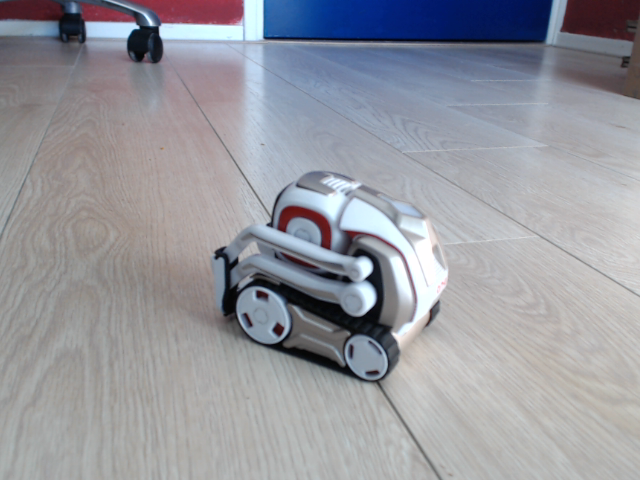cozmo: (210, 166, 452, 384)
